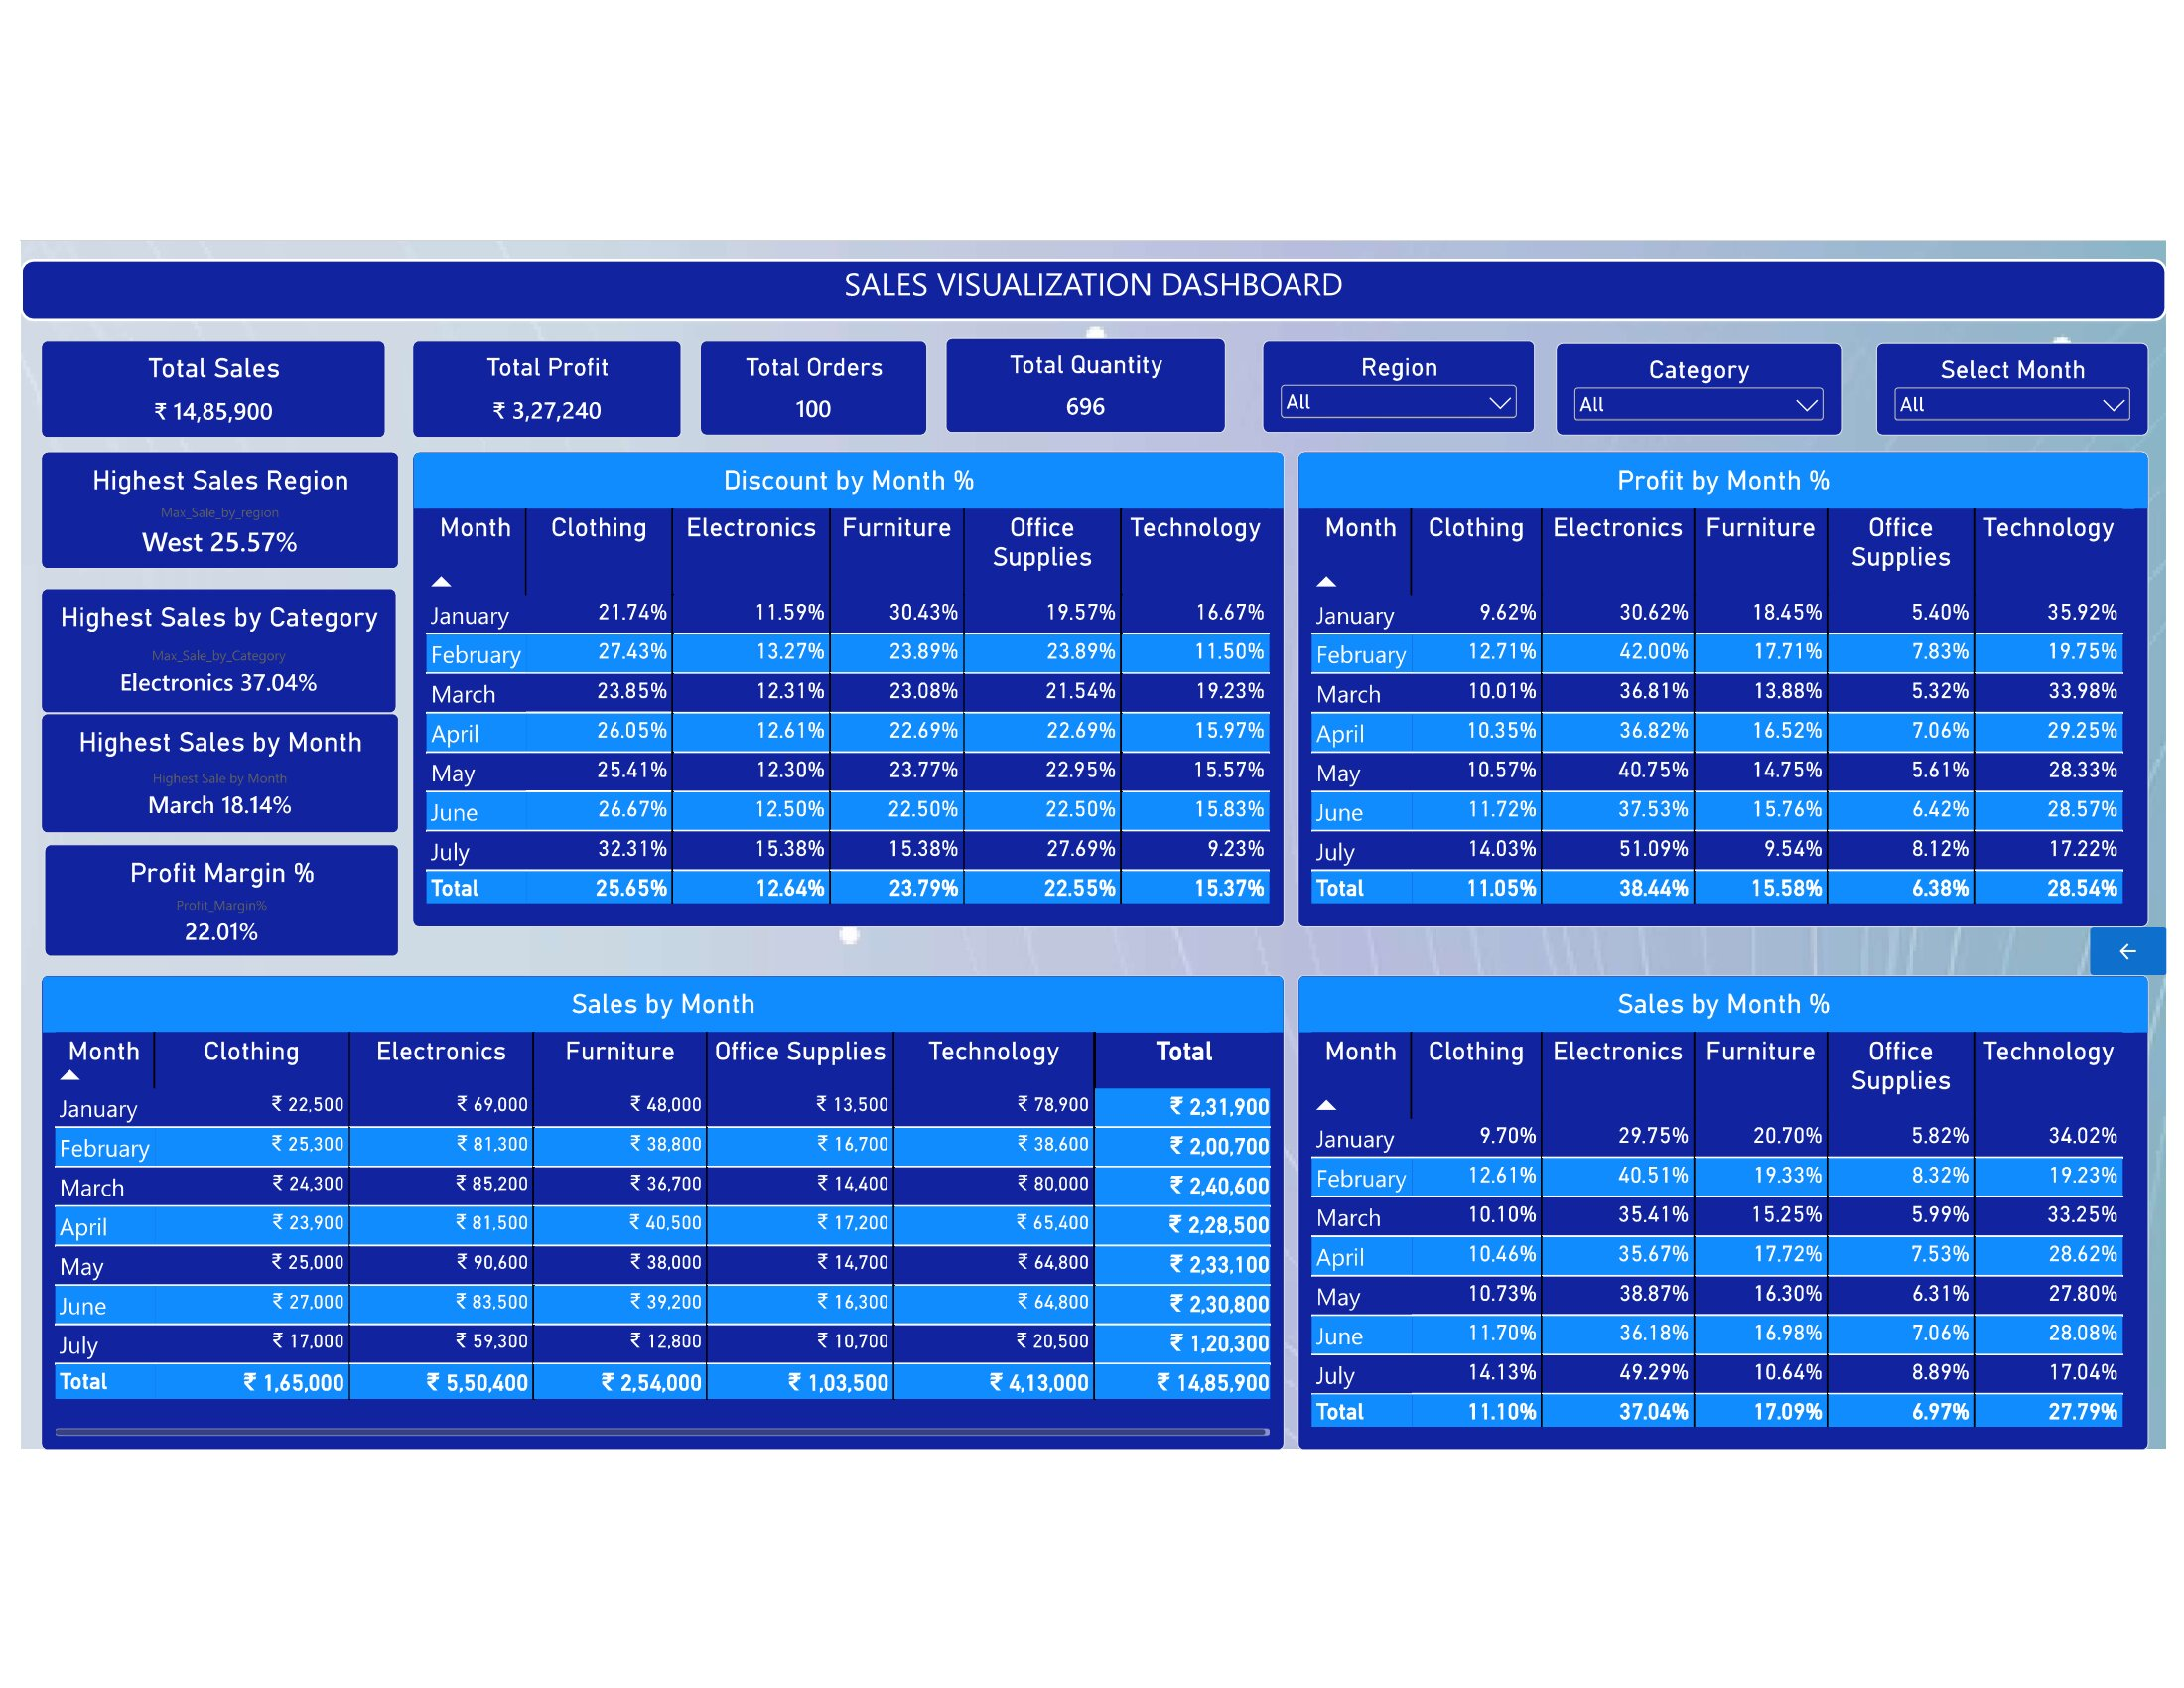

This screenshot's page, from the dashboard's own definition file:
{"tool":"powerbi","page":{"name":"Sub_Page3","canvas":[2560,1440],"ordinal":2},"visuals":[{"type":"textbox","box":[0,22.3,2560.9,73.2],"z":0},{"type":"kpi","title":"Total Sales","fields":{"Indicator":["Sum(Superstore Sales.Sales)"],"TrendLine":["Superstore Sales.OrderDate.Variation.Date Hierarchy.Year"]},"box":[25.4,117.7,410.4,117.7],"z":1000},{"type":"kpi","title":"Total Profit","fields":{"Indicator":["Sum(Superstore Sales.Profit)"],"TrendLine":["Superstore Sales.OrderDate.Variation.Date Hierarchy.Year"]},"box":[467.6,117.7,321.3,117.7],"z":2000},{"type":"kpi","title":"Total Orders","fields":{"Indicator":["CountNonNull(Superstore Sales.OrderID)"],"TrendLine":["Superstore Sales.OrderDate.Variation.Date Hierarchy.Year"]},"box":[811.2,117.7,270.4,114.5],"z":3000},{"type":"slicer","title":"Region","fields":{"Values":["Superstore Sales.Region"]},"box":[1482.4,117.7,324.5,111.3],"z":4000},{"type":"slicer","title":"Category","fields":{"Values":["Superstore Sales.Product Category"]},"box":[1832.4,120.9,340.4,111.3],"z":5000},{"type":"slicer","title":"Select Month","fields":{"Values":["Superstore Sales.OrderDate.Variation.Date Hierarchy.Year","Superstore Sales.OrderDate.Variation.Date Hierarchy.Month"]},"box":[2214.1,120.9,324.5,111.3],"z":6000},{"type":"cardVisual","title":"Highest Sales Region","fields":{"Data":["Superstore Sales.Max_Sale_by_region"]},"box":[25.4,251.3,426.3,140],"z":7000},{"type":"cardVisual","title":"Highest Sales by Category","fields":{"Data":["Superstore Sales.Max_Sale_by_Category"]},"box":[25.4,413.6,423.1,149.5],"z":8000},{"type":"pivotTable","title":" Sales by Month","fields":{"Columns":["Superstore Sales.Product Category"],"Rows":["Superstore Sales.OrderDate.Variation.Date Hierarchy.Month"],"Values":["Sum(Superstore Sales.Sales)"]},"box":[25.4,874.8,1482.4,566.3],"z":9000},{"type":"cardVisual","title":"Highest Sales by Month","fields":{"Data":["Superstore Sales.Highest Sale by Month"]},"box":[25.4,563.1,426.3,143.2],"z":10000},{"type":"actionButton","box":[2468.6,817.6,92.3,57.3],"z":11000},{"type":"pivotTable","title":"Profit by Month %","fields":{"Columns":["Superstore Sales.Product Category"],"Rows":["Superstore Sales.OrderDate.Variation.Date Hierarchy.Month"],"Values":["Sum(Superstore Sales.Profit)"]},"box":[1523.8,251.3,1014.8,566.3],"z":12000},{"type":"pivotTable","title":" Sales by Month %","fields":{"Columns":["Superstore Sales.Product Category"],"Rows":["Superstore Sales.OrderDate.Variation.Date Hierarchy.Month"],"Values":["Sum(Superstore Sales.Sales)"]},"box":[1523.8,874.8,1014.8,566.3],"z":13000},{"type":"pivotTable","title":"Discount by Month %","fields":{"Columns":["Superstore Sales.Product Category"],"Rows":["Superstore Sales.OrderDate.Variation.Date Hierarchy.Month"],"Values":["Sum(Superstore Sales.Discount)"]},"box":[467.6,251.3,1040.3,566.3],"z":14000},{"type":"kpi","title":"Total Quantity","fields":{"Indicator":["Sum(Superstore Sales.Quantity)"],"TrendLine":["Superstore Sales.OrderDate.Variation.Date Hierarchy.Year"]},"box":[1103.9,114.5,334,114.5],"z":14001},{"type":"cardVisual","title":"Profit Margin %","fields":{"Data":["Superstore Sales.Profit_Margin%"]},"box":[28.6,719,423.1,133.6],"z":14002}]}

Visuals, with their boxes in screenshot pixels (x1, y1, x2, y2):
textbox: locate(11, 252, 2166, 314)
"Total Sales" kpi: locate(33, 333, 378, 431)
"Total Profit" kpi: locate(405, 333, 675, 431)
"Total Orders" kpi: locate(694, 333, 921, 429)
"Region" slicer: locate(1259, 333, 1532, 426)
"Category" slicer: locate(1553, 335, 1840, 429)
"Select Month" slicer: locate(1874, 335, 2147, 429)
"Highest Sales Region" cardVisual: locate(33, 445, 391, 563)
"Highest Sales by Category" cardVisual: locate(33, 581, 389, 707)
" Sales by Month" pivotTable: locate(33, 969, 1280, 1446)
"Highest Sales by Month" cardVisual: locate(33, 707, 391, 827)
actionButton: locate(2089, 921, 2166, 969)
"Profit by Month %" pivotTable: locate(1294, 445, 2147, 921)
" Sales by Month %" pivotTable: locate(1294, 969, 2147, 1446)
"Discount by Month %" pivotTable: locate(405, 445, 1280, 921)
"Total Quantity" kpi: locate(940, 330, 1221, 426)
"Profit Margin %" cardVisual: locate(36, 838, 391, 950)
